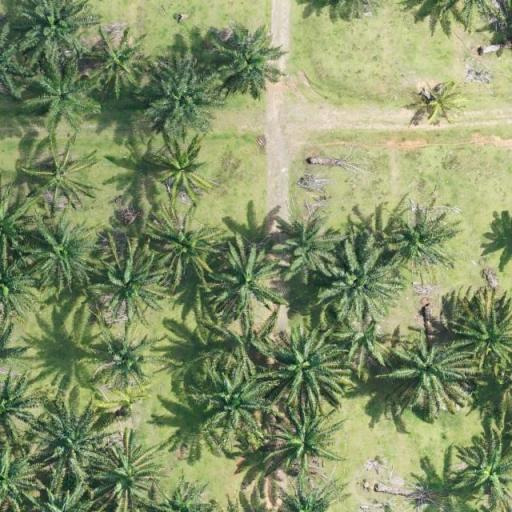Ganoderma: (156, 144, 204, 189), (95, 34, 139, 80), (38, 156, 80, 198), (422, 82, 462, 120)
